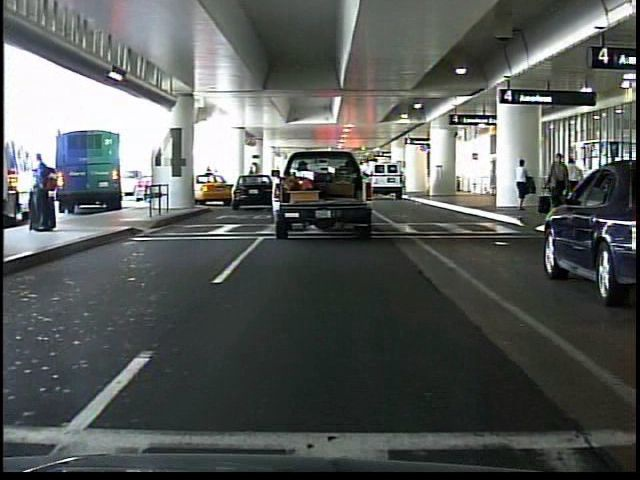person: (26, 143, 62, 238), (547, 148, 574, 203), (562, 155, 585, 218), (510, 155, 533, 212)
